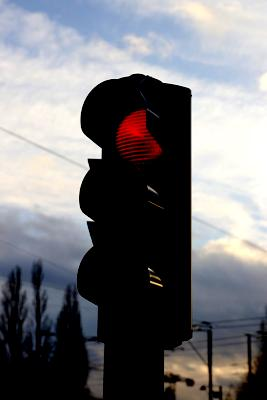International Road Signal Light: (75, 66, 202, 340)
